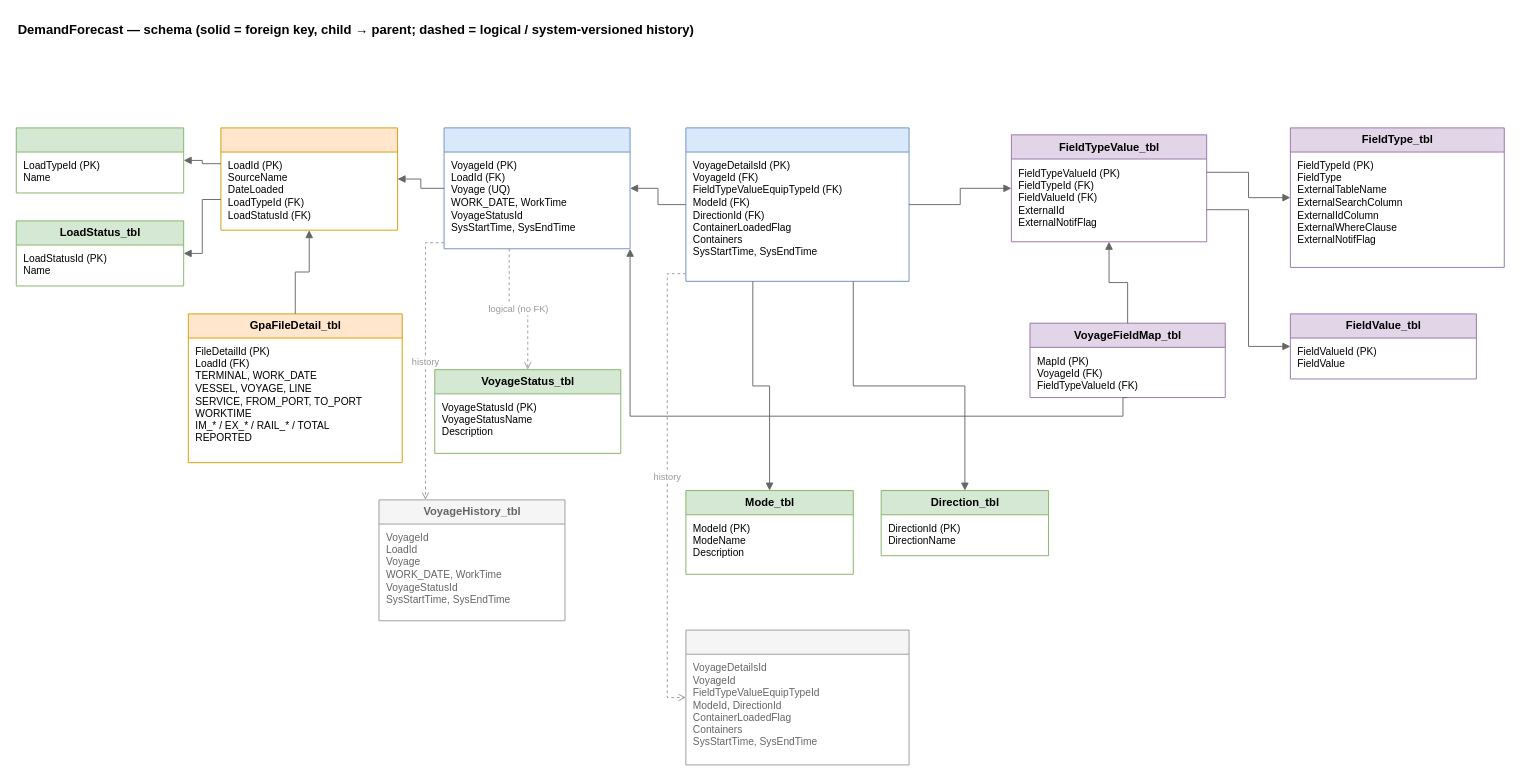
Image size: 1521x781. Some labels were removed from this diagram. The shapes that lost their labels are listed below. From the top down, each one's box as (x1, y1, x2, y2) in pixels, then its label:
(15, 127, 184, 193): FileType_tbl
(220, 127, 398, 230): Load_tbl
(443, 127, 630, 249): Voyage_tbl (temporal)
(685, 127, 909, 281): VoyageDetails_tbl (temporal)
(685, 629, 909, 765): VoyageDetailsHistory_tbl
